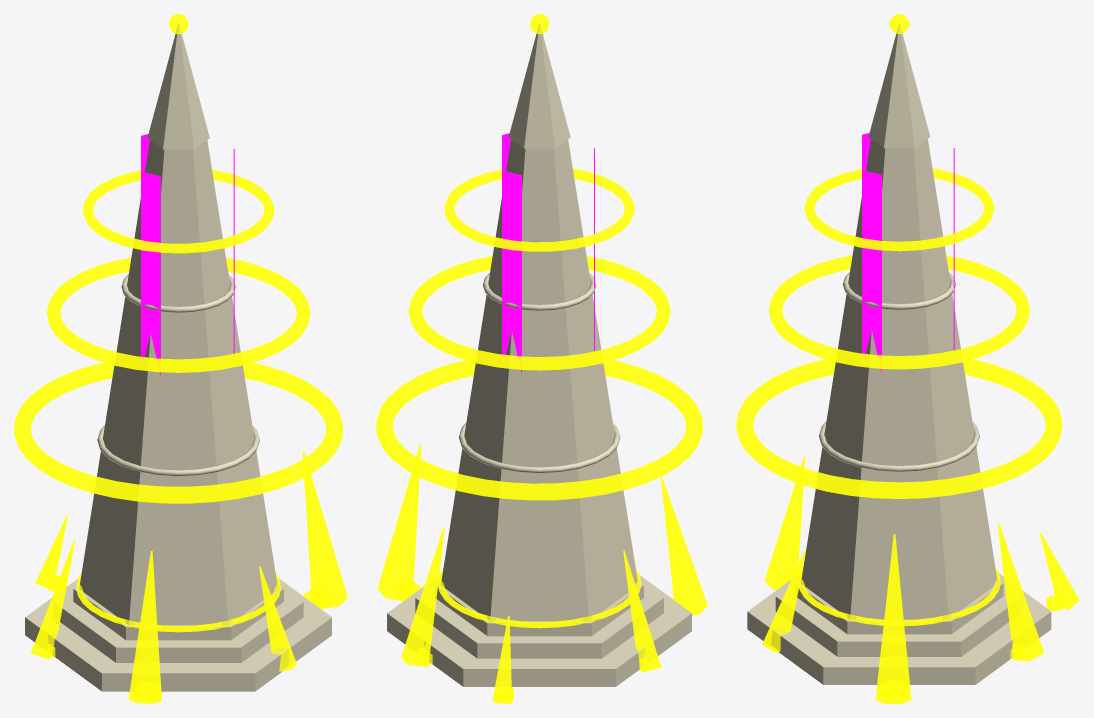
File: solar_radiant_nexus.glb
3 renders of one model, left to right at view 1: azimuth 30°, elevation 25°; view 2: azimuth 150°, elevation 25°; view 3: azimuth 270°, elevation 25°, orthographic.
Parts seen in each view (by area): view 1: SolarRadiantNexus; view 2: SolarRadiantNexus; view 3: SolarRadiantNexus.
Part boxes in pixels (left/top/right/bottom): SolarRadiantNexus: left=14, top=14, right=347, bottom=703; SolarRadiantNexus: left=376, top=14, right=707, bottom=703; SolarRadiantNexus: left=736, top=14, right=1079, bottom=703.
Size of the model in its own units: 2.47 by 4.83 by 2.44.
